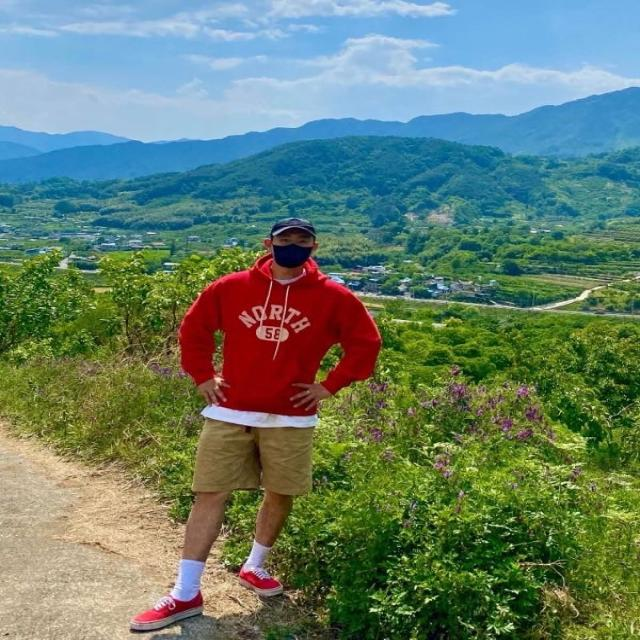hoodies: (178, 242, 384, 414)
shortpants: (190, 414, 315, 497)
